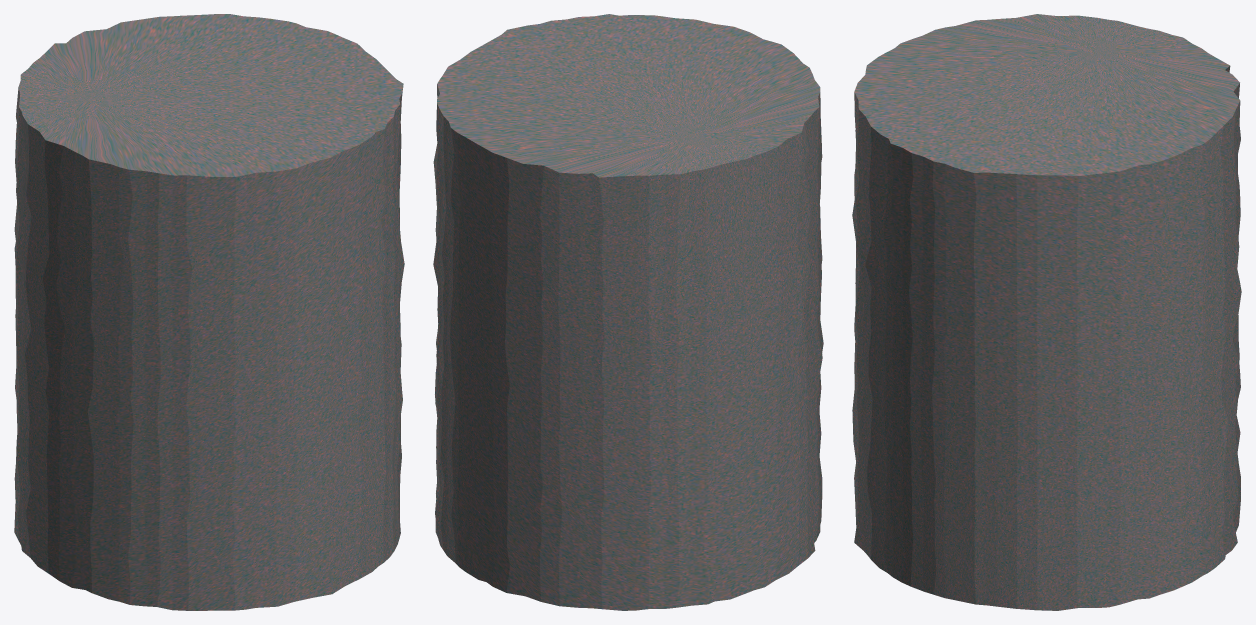
The model's file is barrel_7.dae.
3 views of the same model, side by side, from view 1: azimuth 30°, elevation 25°; view 2: azimuth 150°, elevation 25°; view 3: azimuth 270°, elevation 25° (orthographic).
Parts seen in each view (by area): view 1: Cylinder; view 2: Cylinder; view 3: Cylinder.
Part boxes in pixels (bbox=[...]): Cylinder: bbox=[14, 14, 404, 610]; Cylinder: bbox=[433, 14, 823, 610]; Cylinder: bbox=[852, 14, 1241, 610].
Size of the model in its own units: 0.8188 by 0.8138 by 1.
1 material, 1 textured.
